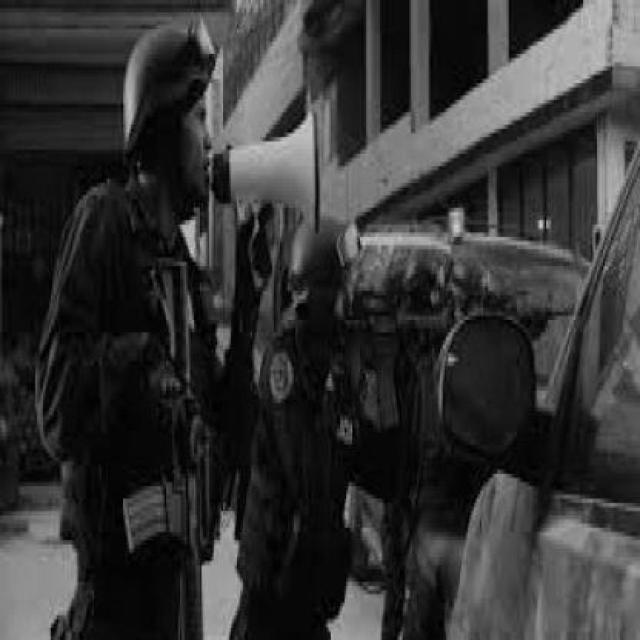weapon: (122, 256, 209, 639)
